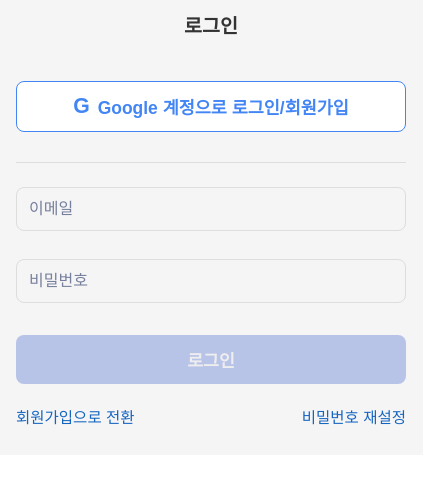
Scenario: AuthForm › 로그인 실패 - 기타 에러
The image size is (423, 487).
In the field with placeholder "이메일": point(211, 208) [16,186,406,230], type "test@test.com"
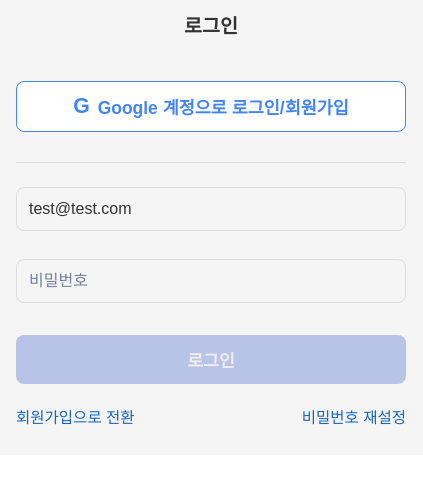
In the password field with placeholder "비밀번호": point(211, 280) [16,258,406,302], type "Abcdefg1!"
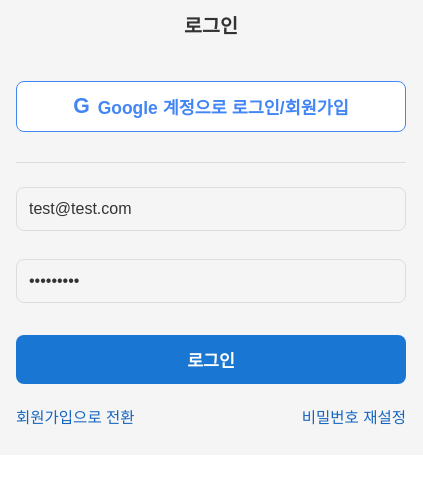
Click the button "로그인": point(211, 359) [16,334,406,384]
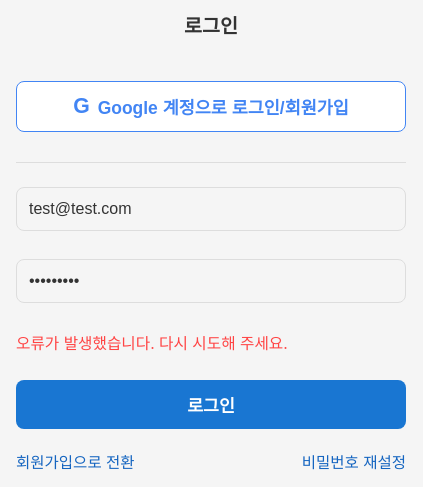
Now the text "오류가 발생했습니다. 다시 시도해 주세요." is shown, box [16,334,288,352]
